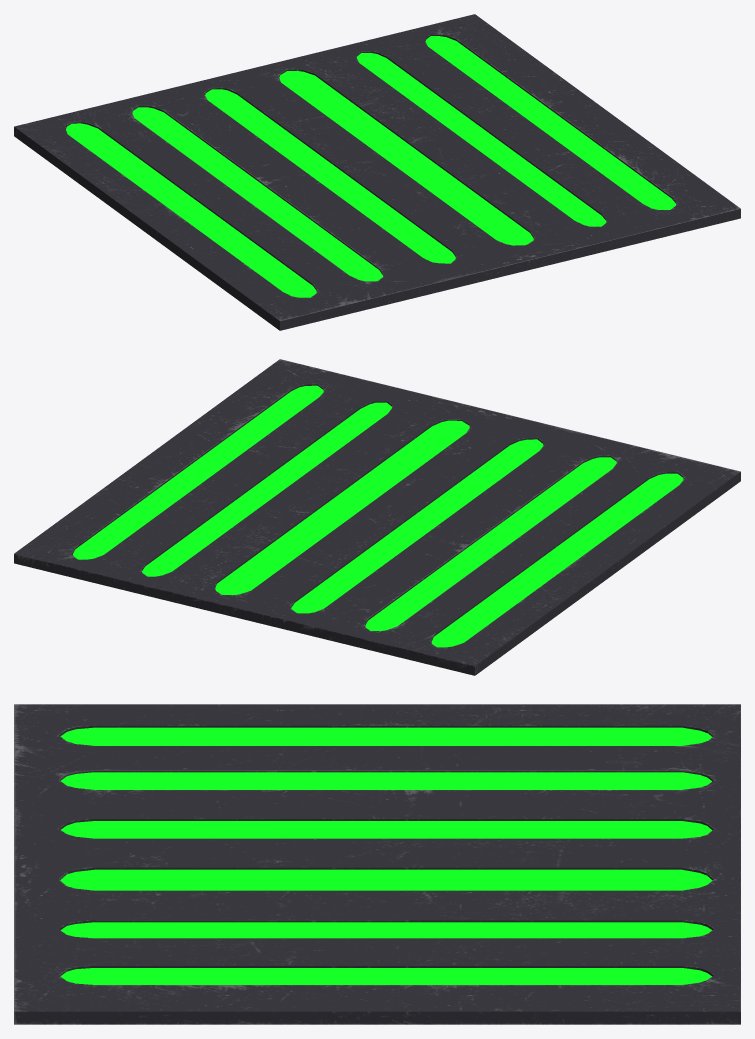
The model's file is Floor_V2_Final.fbx.
3 views of the same model, one above another, from view 1: azimuth 30°, elevation 25°; view 2: azimuth 150°, elevation 25°; view 3: azimuth 270°, elevation 25° (orthographic). The views are drawn at different scales.
Parts seen in each view (by area): view 1: pCube1; view 2: pCube1; view 3: pCube1.
Boxes of the visible parts, bbox=[...] form: pCube1: bbox=[14, 14, 740, 330]; pCube1: bbox=[14, 359, 740, 675]; pCube1: bbox=[14, 704, 740, 1024].
Size of the model in its own units: 100 by 2 by 99.94.
Materials: 1 (1 with a texture image).
